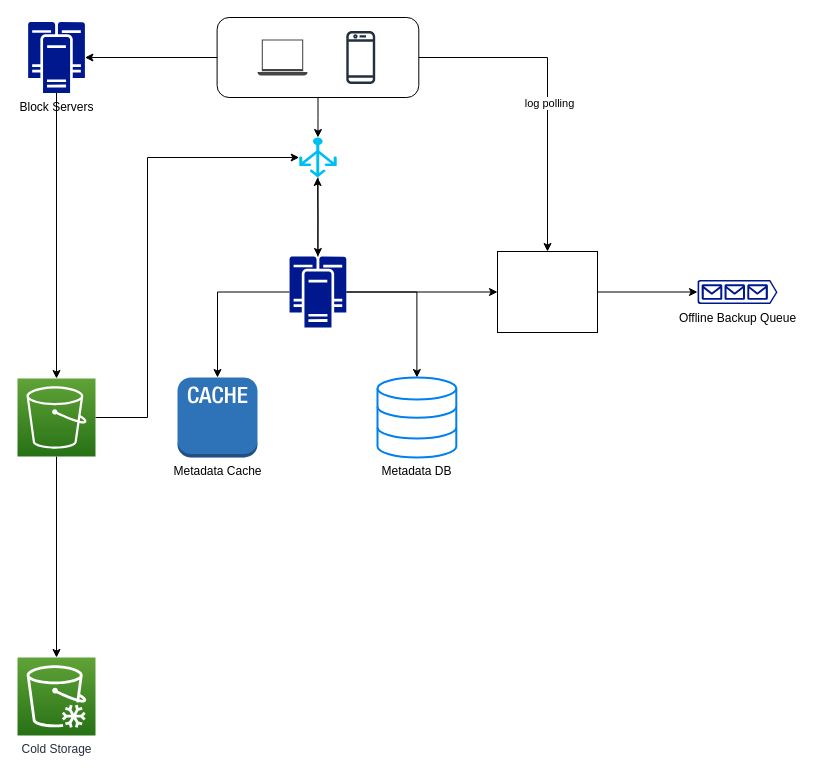
Image size: 813x774. Some labels were removed from this diagram. The shapes that lost their labels are listed below. From the top down, each one's centre as x and y in pixels, then its label:
pixel 317 291: API Servers
pixel 547 291: Notification Service
pixel 56 417: Cloud Storage
